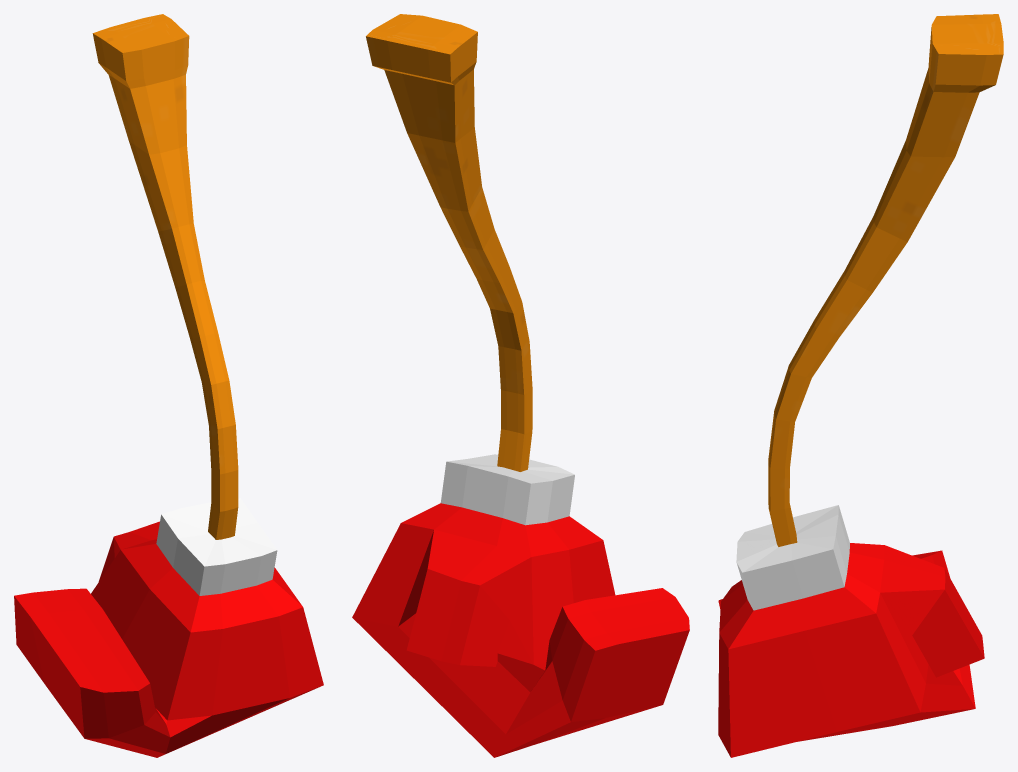
The model's file is Squid RArm .fbx.
The picture shows the model from 3 angles, left to right: view 1: azimuth 30°, elevation 25°; view 2: azimuth 150°, elevation 25°; view 3: azimuth 270°, elevation 25°; orthographic projection. The views are drawn at different scales.
Visible parts, largest first — view 1: RArm.003; view 2: RArm.003; view 3: RArm.003.
Part boxes in pixels (x1=…): RArm.003: x1=14, y1=14, x2=323, y2=757; RArm.003: x1=352, y1=14, x2=689, y2=757; RArm.003: x1=718, y1=14, x2=1003, y2=757.
Size of the model in its own units: 21.35 by 57.1 by 19.82.
1 material, 1 textured.
